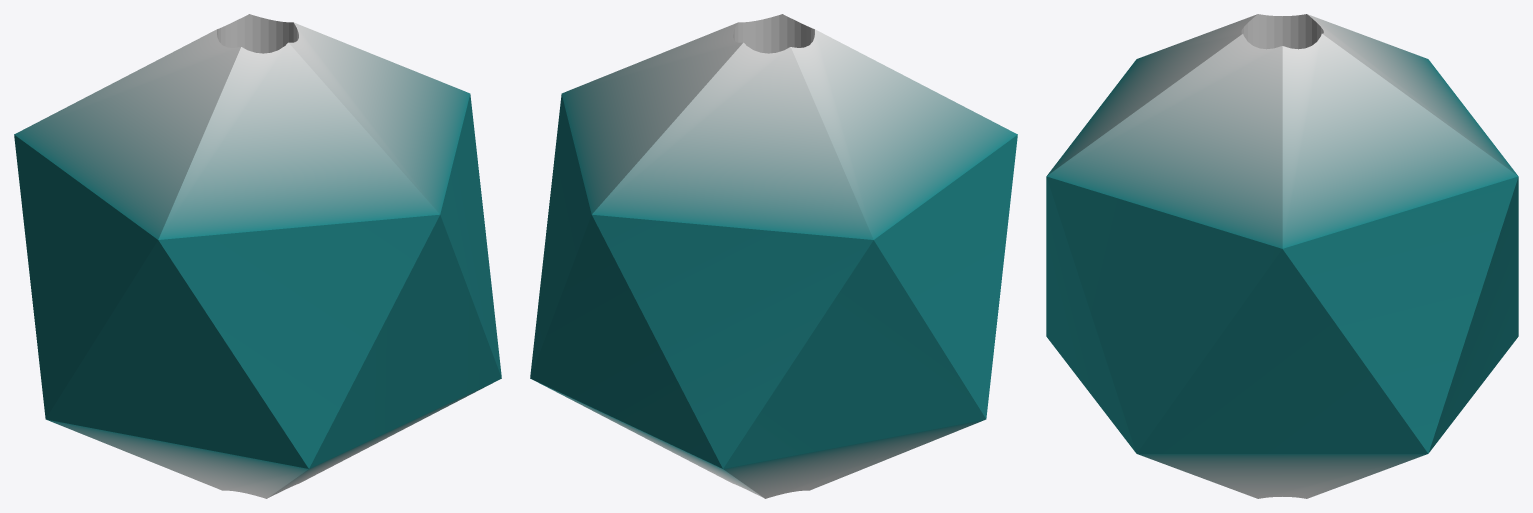
Rendered from faceted-round.glb.
The picture shows the model from 3 angles, left to right: view 1: azimuth 30°, elevation 25°; view 2: azimuth 150°, elevation 25°; view 3: azimuth 270°, elevation 25°; orthographic projection.
Parts seen in each view (by area): view 1: faceted-round; view 2: faceted-round; view 3: faceted-round.
Part boxes in pixels (bbox=[...]): faceted-round: bbox=[14, 14, 501, 498]; faceted-round: bbox=[530, 14, 1017, 498]; faceted-round: bbox=[1046, 14, 1518, 498].
Bounding box in the file's own units: 0.00716 × 0.00726 × 0.00681.
